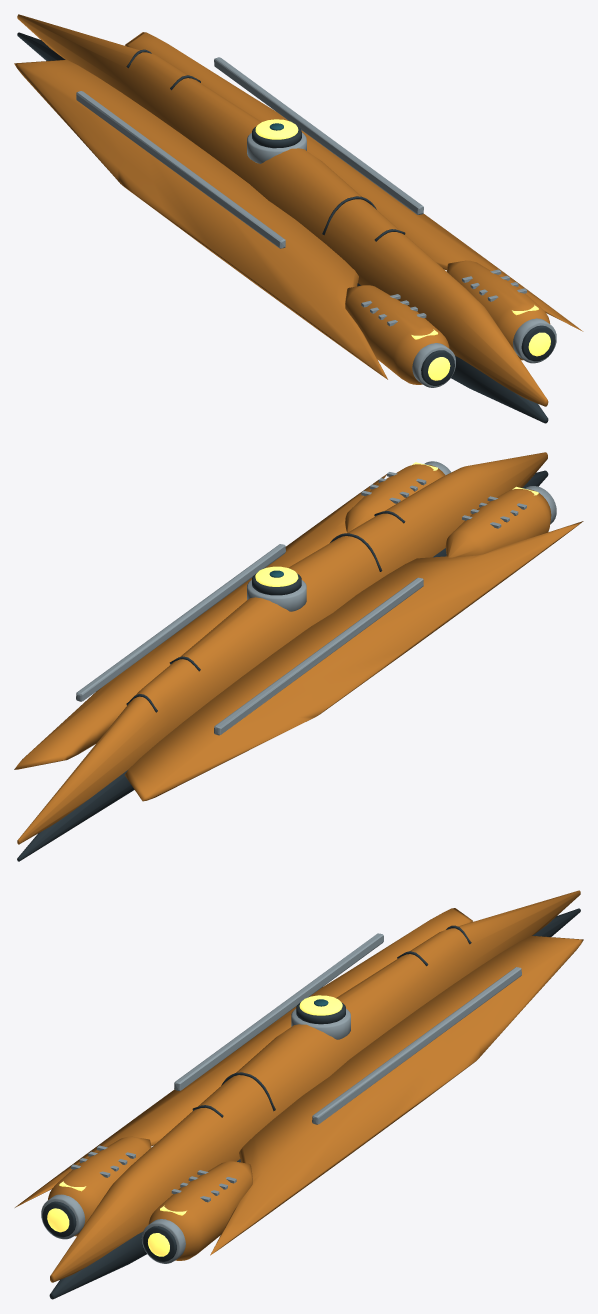
The model's file is enemy-1.glb.
The picture shows the model from 3 angles, top to bottom: view 1: azimuth 30°, elevation 25°; view 2: azimuth 150°, elevation 25°; view 3: azimuth 330°, elevation 25°; orthographic projection.
Parts seen in each view (by area): view 1: SM_Hull; view 2: SM_Hull; view 3: SM_Hull.
Boxes of the visible parts, x1,y1,x2,y2 form: SM_Hull: (14, 14, 583, 423); SM_Hull: (14, 452, 583, 861); SM_Hull: (15, 890, 583, 1299).
Bounding box in the file's own units: 2.1 × 1.2 × 9.8.
